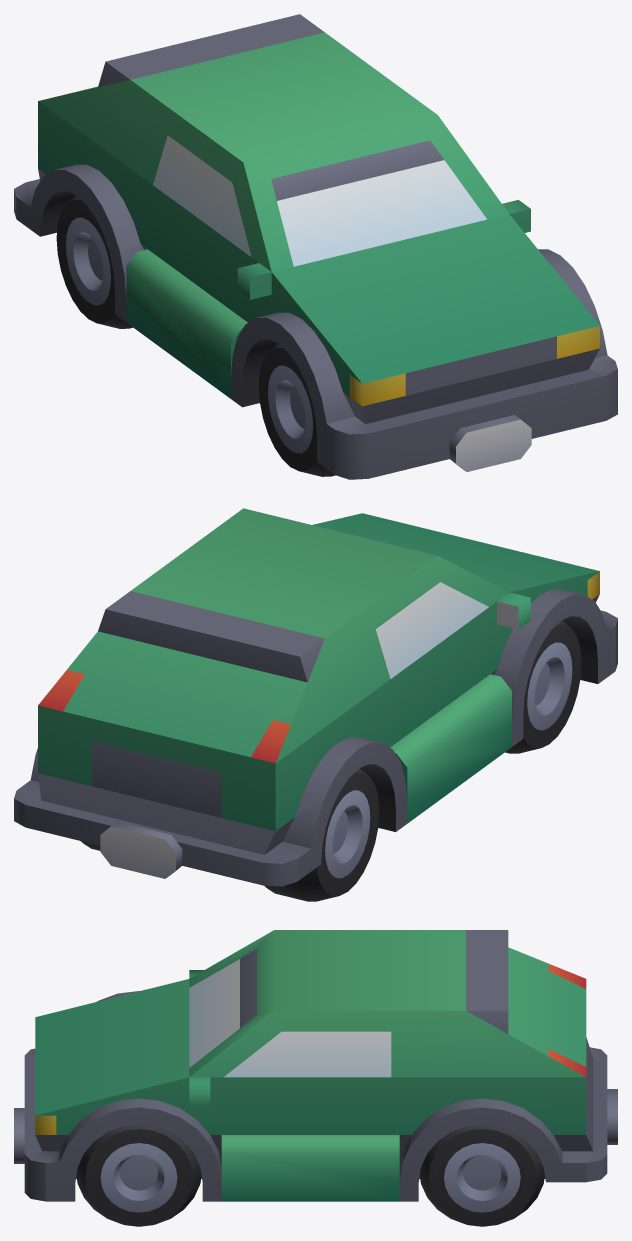
File: hatchback-sports.glb
3 views of the same model, one above another, from view 1: azimuth 30°, elevation 25°; view 2: azimuth 150°, elevation 25°; view 3: azimuth 270°, elevation 25° (orthographic). The views are drawn at different scales.
Visible parts, largest first — view 1: body, wheel-back-right, wheel-front-right; view 2: body, wheel-back-right, wheel-front-right; view 3: body, wheel-back-left, wheel-front-left.
Part boxes in pixels (box(x1,y1,x2,y2)): body: box(14, 14, 617, 479); wheel-back-right: box(56, 196, 132, 328); wheel-front-right: box(258, 343, 335, 476); body: box(14, 508, 617, 886); wheel-back-right: box(264, 768, 379, 901); wheel-front-right: box(505, 620, 581, 753); body: box(14, 930, 617, 1201); wheel-back-left: box(419, 1124, 544, 1226); wheel-front-left: box(76, 1124, 201, 1226).
Bounding box in the file's own units: 1.3 × 1.1 × 2.85.
